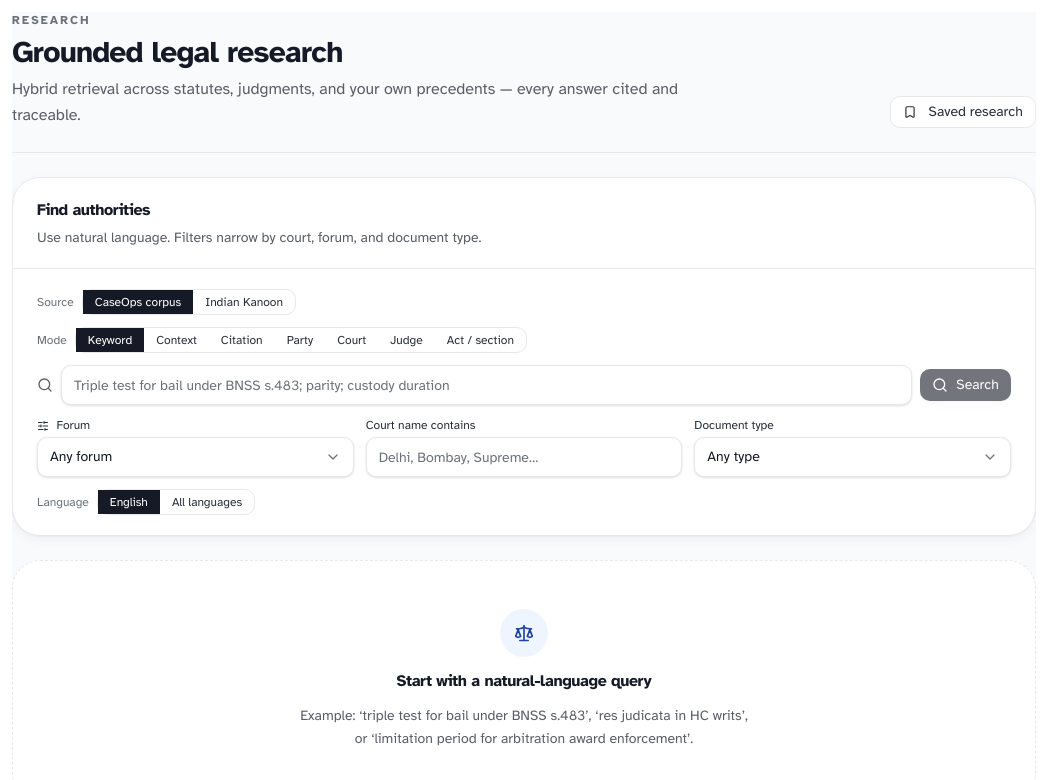
Test case: ResearchPage › renders corpus unavailable separately from no matching documents
Replace the text in the field with test id "research-query-input" with "section 11 trademark" at (487, 385), box x1=61 y1=365 x2=912 y2=405
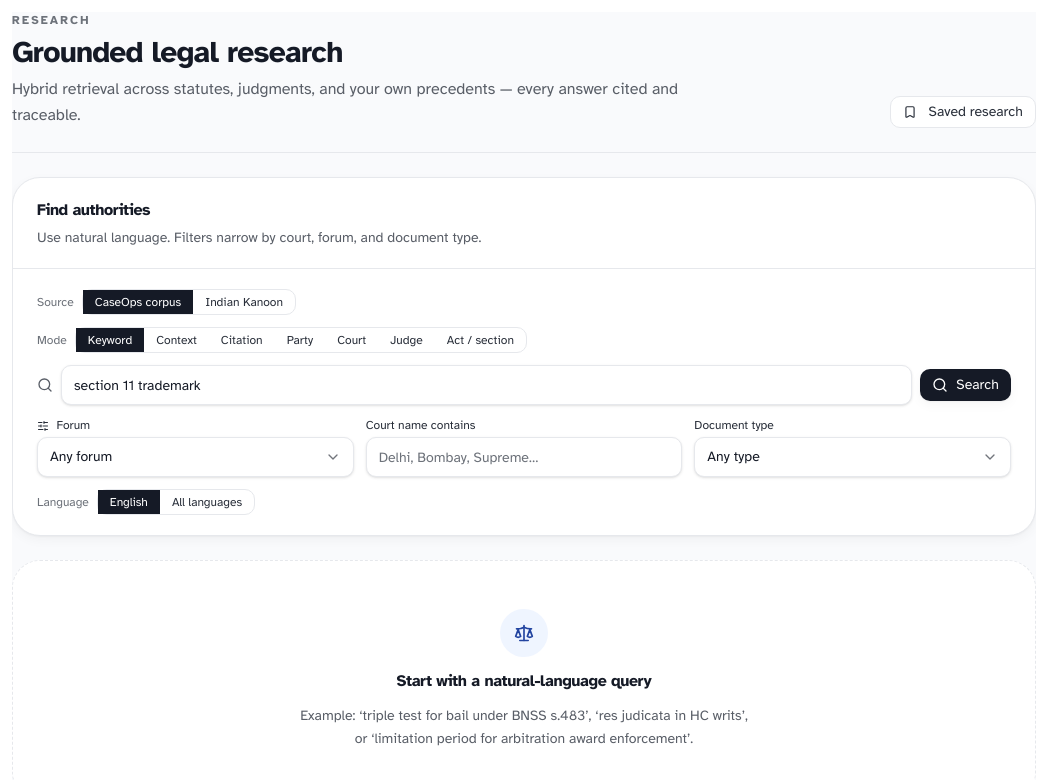
Click the button with test id "research-query-submit" at (966, 385), box x1=920 y1=369 x2=1011 y2=401
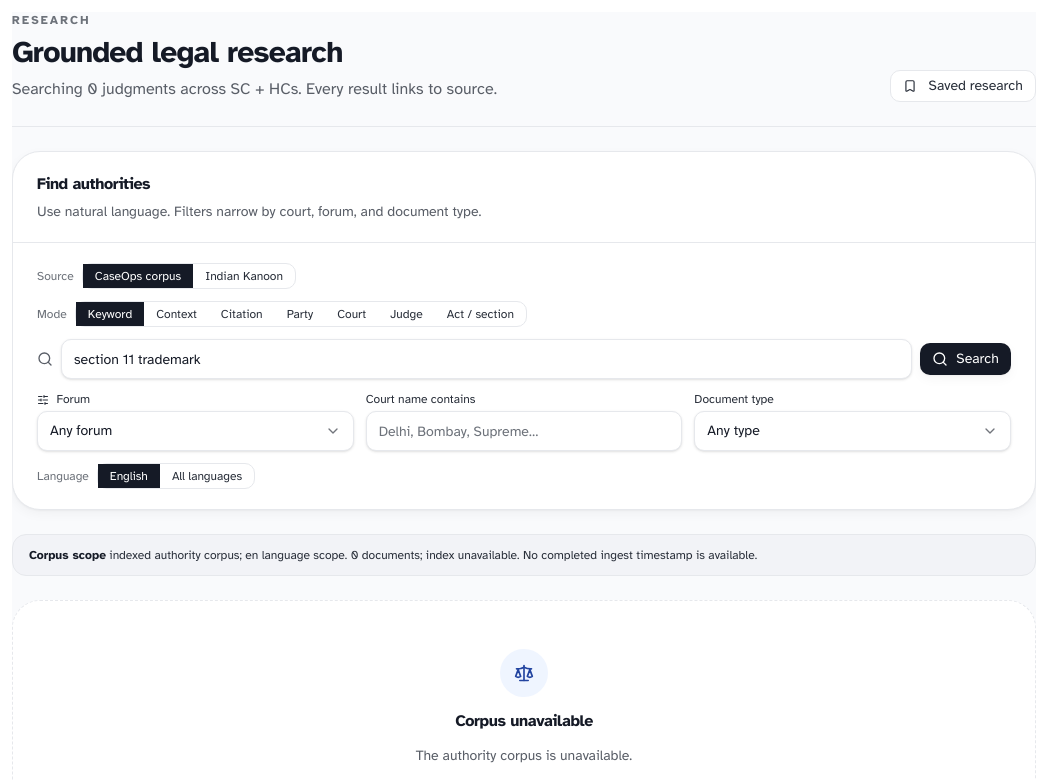
expect the heading "Corpus unavailable" is shown: met, box x1=455 y1=709 x2=593 y2=733
expect the element with test id "research-corpus-coverage" shows "index unavailable": met, box x1=12 y1=534 x2=1036 y2=576
